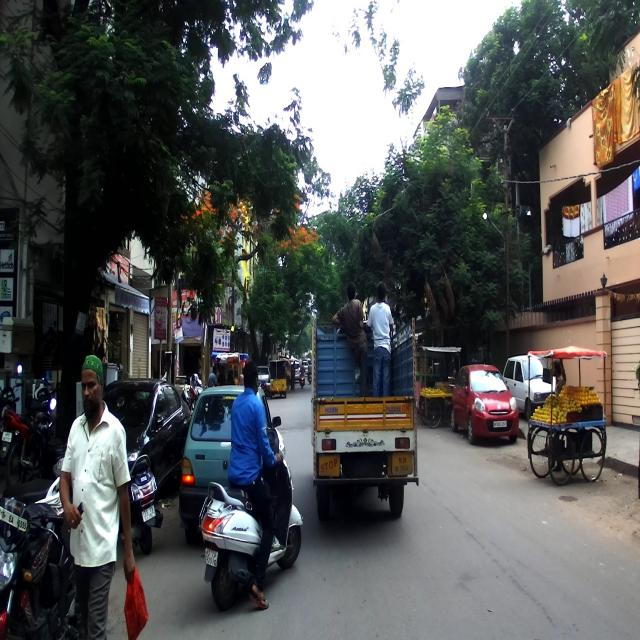Car_Maruti-Suzuki: (178, 384, 281, 549)
Car_Nissan: (449, 362, 519, 446)
motorcycle_Yamaha: (0, 487, 94, 640)
scooter: (199, 427, 304, 612), (119, 452, 164, 558)
truck: (308, 312, 420, 526)
